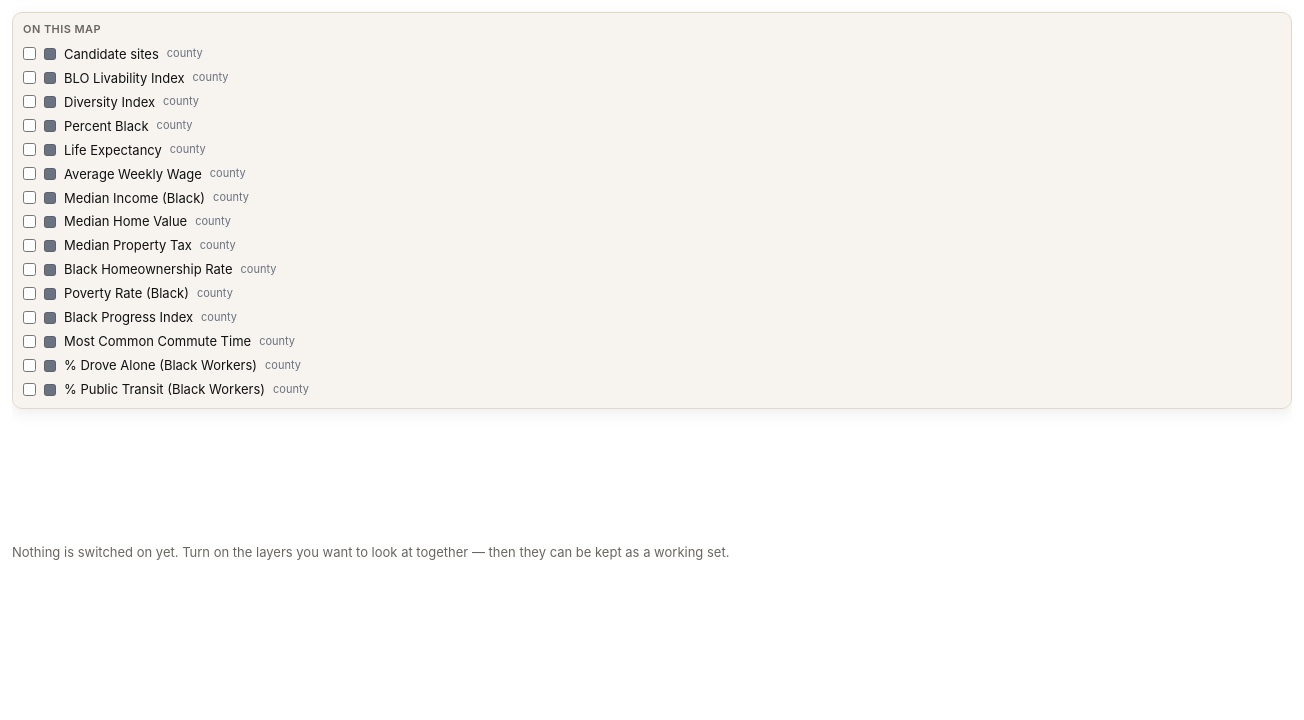
exploring every layer › will not make a set out of nothing, or out of something unnamed
This screenshot has width=1304, height=720.
Click the checkbox labelled "Candidate sites county". click: click(30, 54)
box: [23,48,36,60]
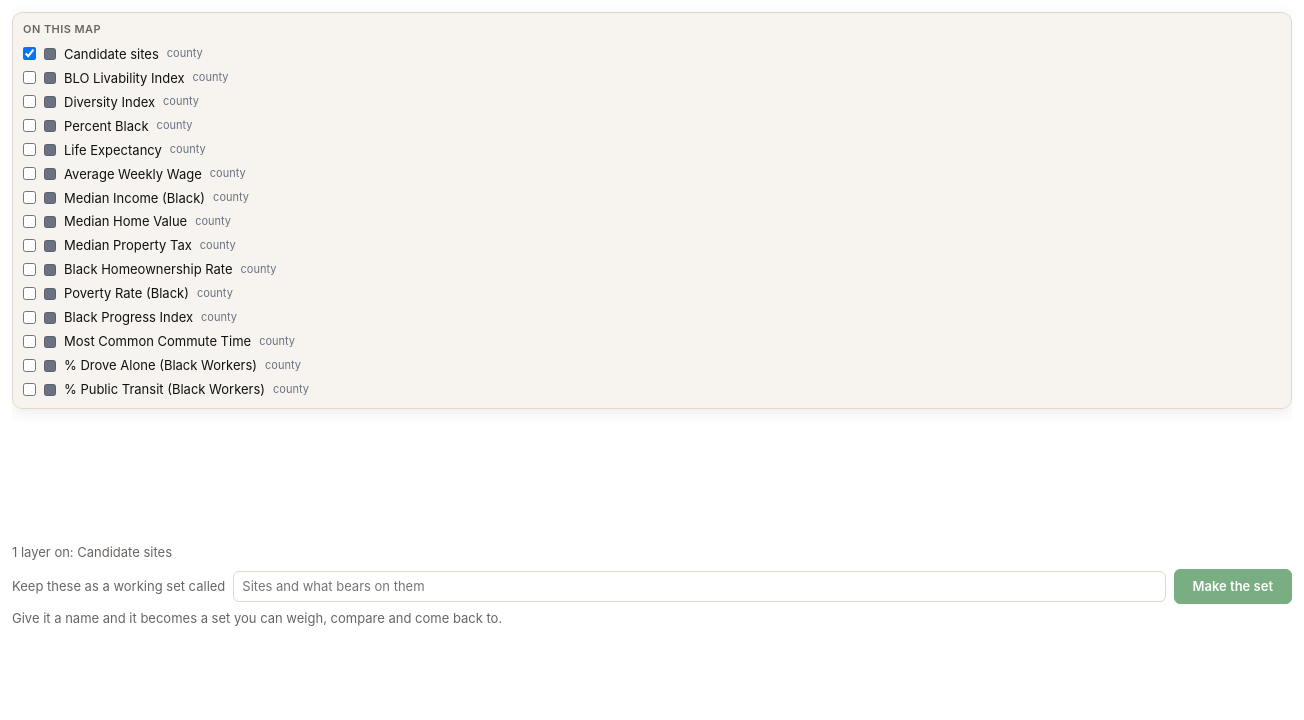
Now the text with test id "explore-chosen" shows "Candidate sites", box [12,544,172,560]
Now the button with test id "explore-create" is disabled, box [1174,569,1292,604]
Now the text with test id "explore-why" shows "Give it a name", box [12,610,502,626]
